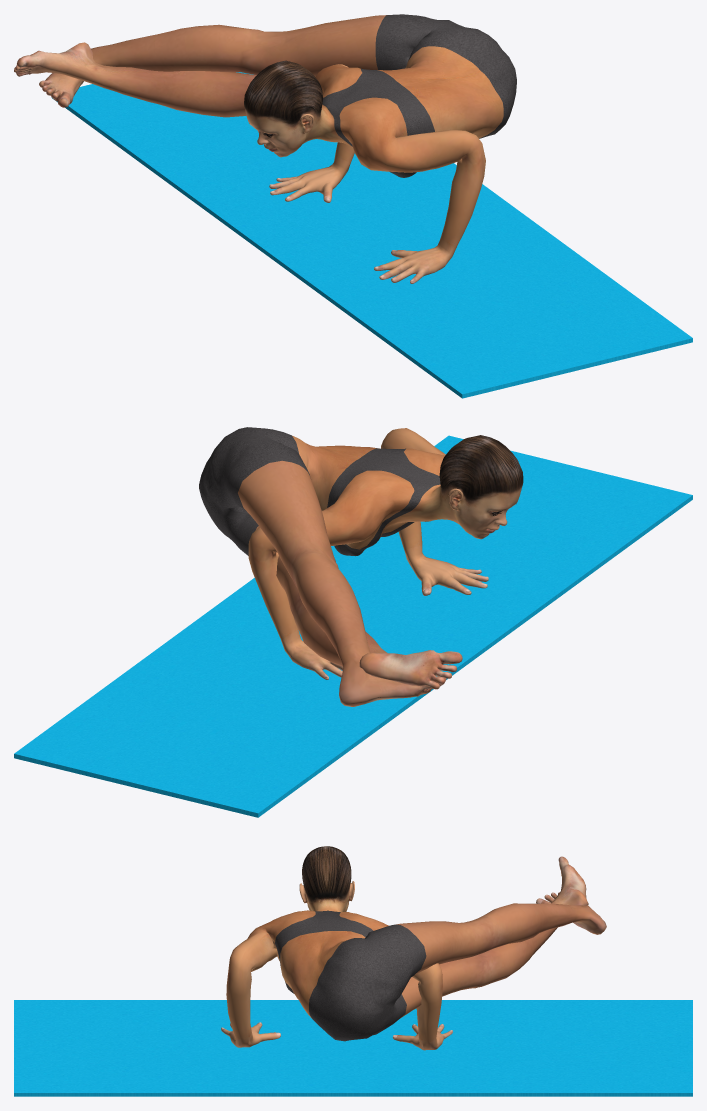
The model's file is astavakrasana.glb.
3 views of the same model, one above another, from view 1: azimuth 30°, elevation 25°; view 2: azimuth 150°, elevation 25°; view 3: azimuth 270°, elevation 25° (orthographic). The views are drawn at different scales.
Visible parts, largest first — view 1: mat_001-material, FemaleSkin-material; view 2: mat_001-material, FemaleSkin-material; view 3: mat_001-material, FemaleSkin-material.
Boxes of the visible parts, <box> form: mat_001-material: <box>51,72,692,398</box>; FemaleSkin-material: <box>14,14,516,283</box>; mat_001-material: <box>14,435,692,817</box>; FemaleSkin-material: <box>199,427,523,706</box>; mat_001-material: <box>14,1000,692,1096</box>; FemaleSkin-material: <box>221,846,606,1050</box>.
Bounding box in the file's own units: 3.19 × 1.59 × 6.17.
2 materials, 2 textured.
